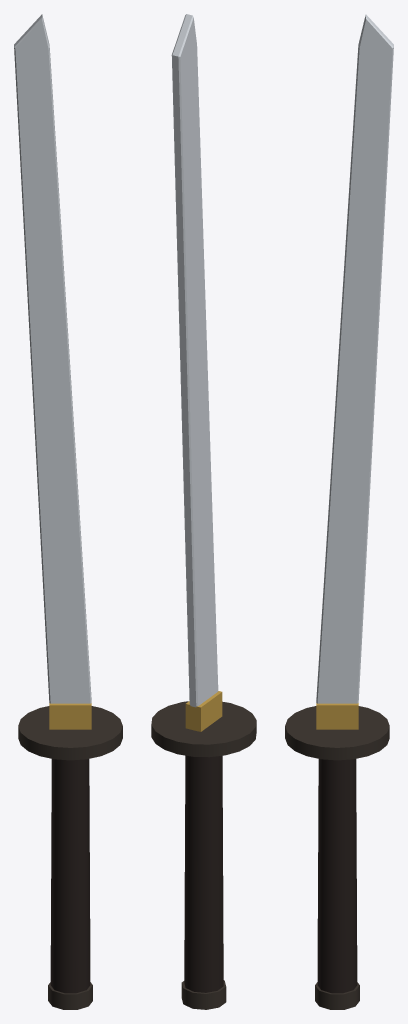
File: katana.glb
The picture shows the model from 3 angles, left to right: view 1: azimuth 90°, elevation 25°; view 2: azimuth 150°, elevation 25°; view 3: azimuth 270°, elevation 25°; orthographic projection.
Visible parts, largest first — view 1: katana; view 2: katana; view 3: katana.
Boxes of the visible parts, x1=… form: katana: x1=14, y1=14, x2=122, y2=1009; katana: x1=151, y1=14, x2=256, y2=1009; katana: x1=285, y1=14, x2=393, y2=1009.
Bounding box in the file's own units: 8.4 × 87.23 × 8.73.
